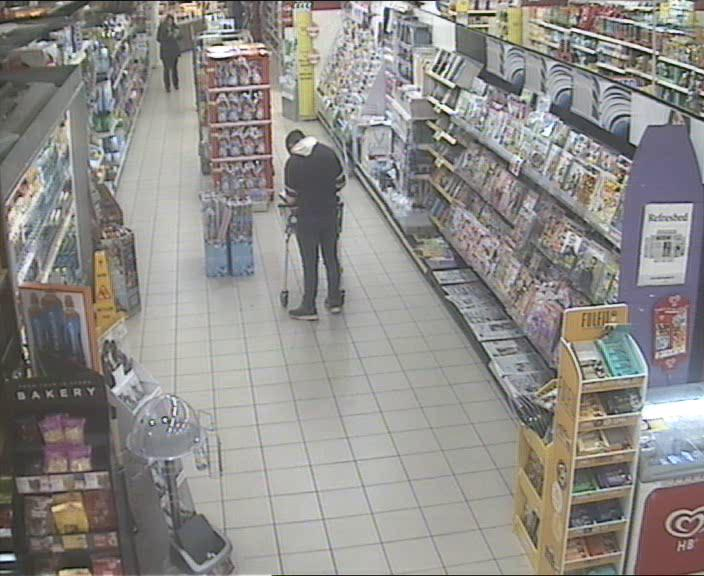filled-trolly: (280, 183, 345, 307)
person: (286, 130, 347, 320)
person-with-filled-basket-trolly: (280, 129, 346, 319)
